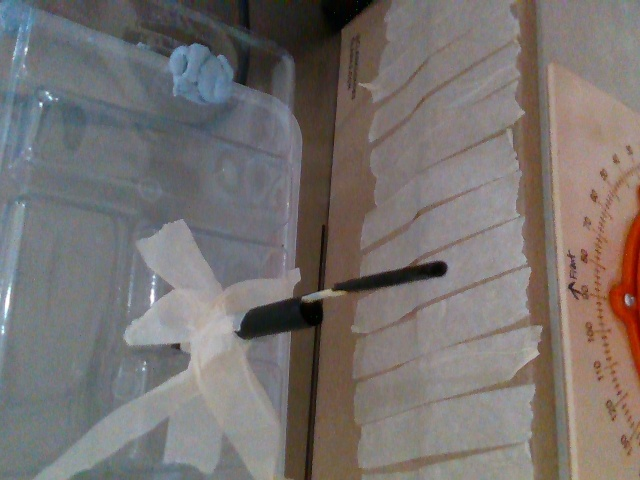test_strip: (298, 259, 447, 300)
